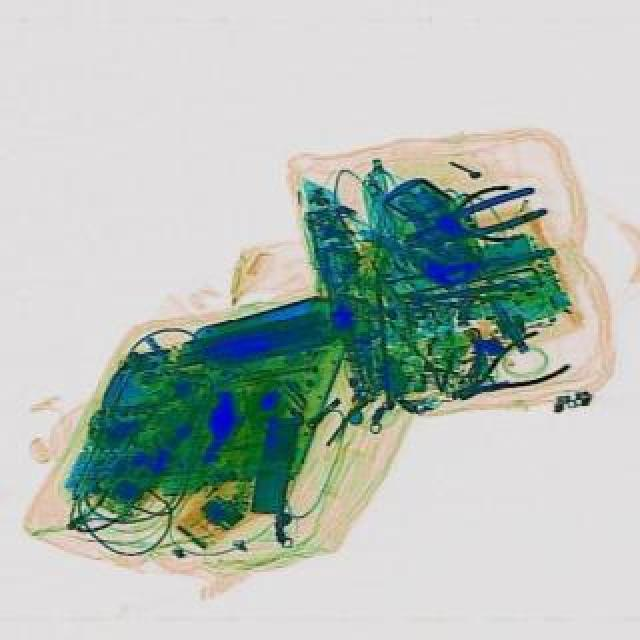scissors: (408, 274, 520, 306)
wrench: (442, 322, 570, 418), (396, 182, 550, 258), (396, 184, 518, 250)
